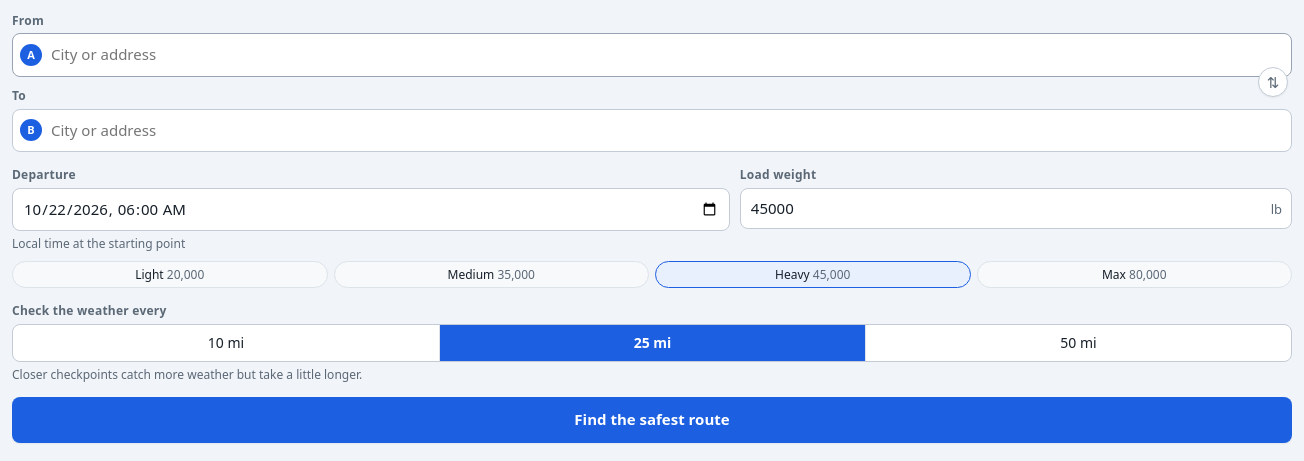
Test: TripForm › the presets fill in the load
The image size is (1304, 461).
Click the button "Light 20,000".
click(170, 274)  # box [12, 261, 328, 288]
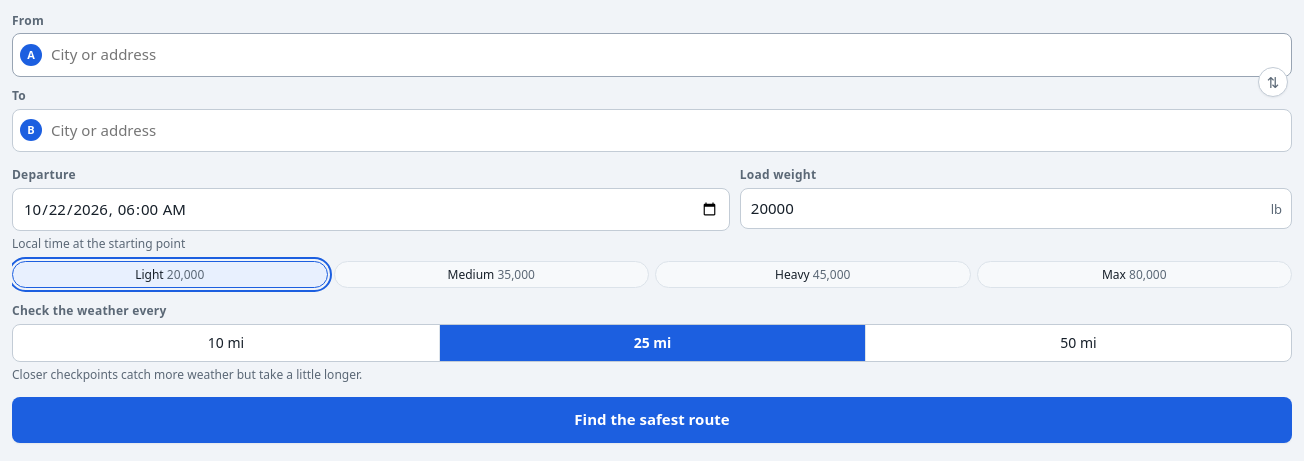
Expected: the number field labelled "Load weight" holds "20000", [740, 188, 1292, 230]
